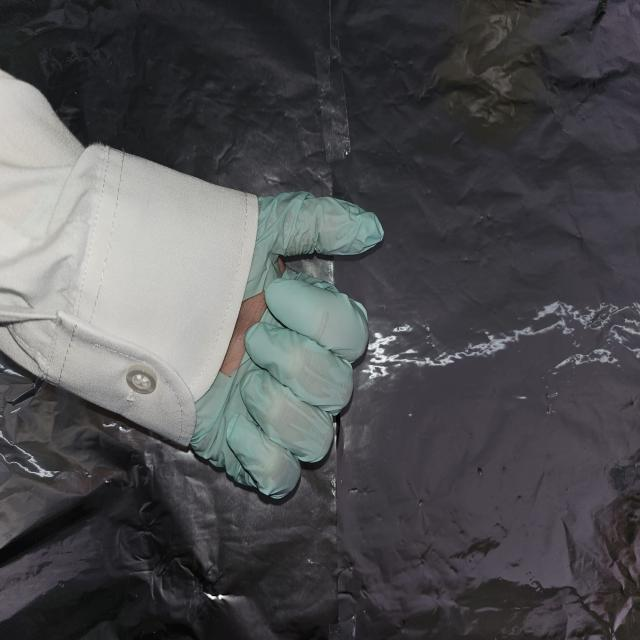gloves_damaged: (189, 189, 384, 501)
